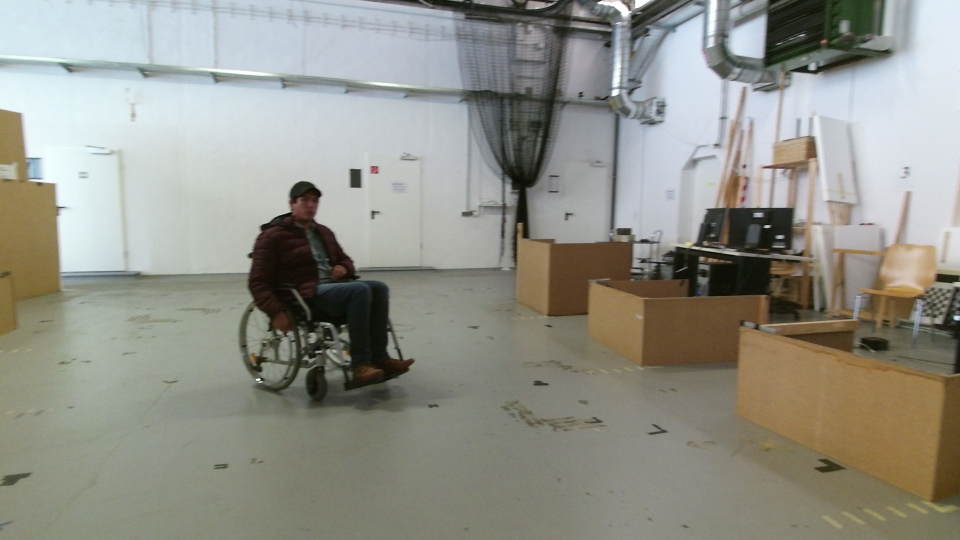wheelchair: (227, 172, 406, 398)
